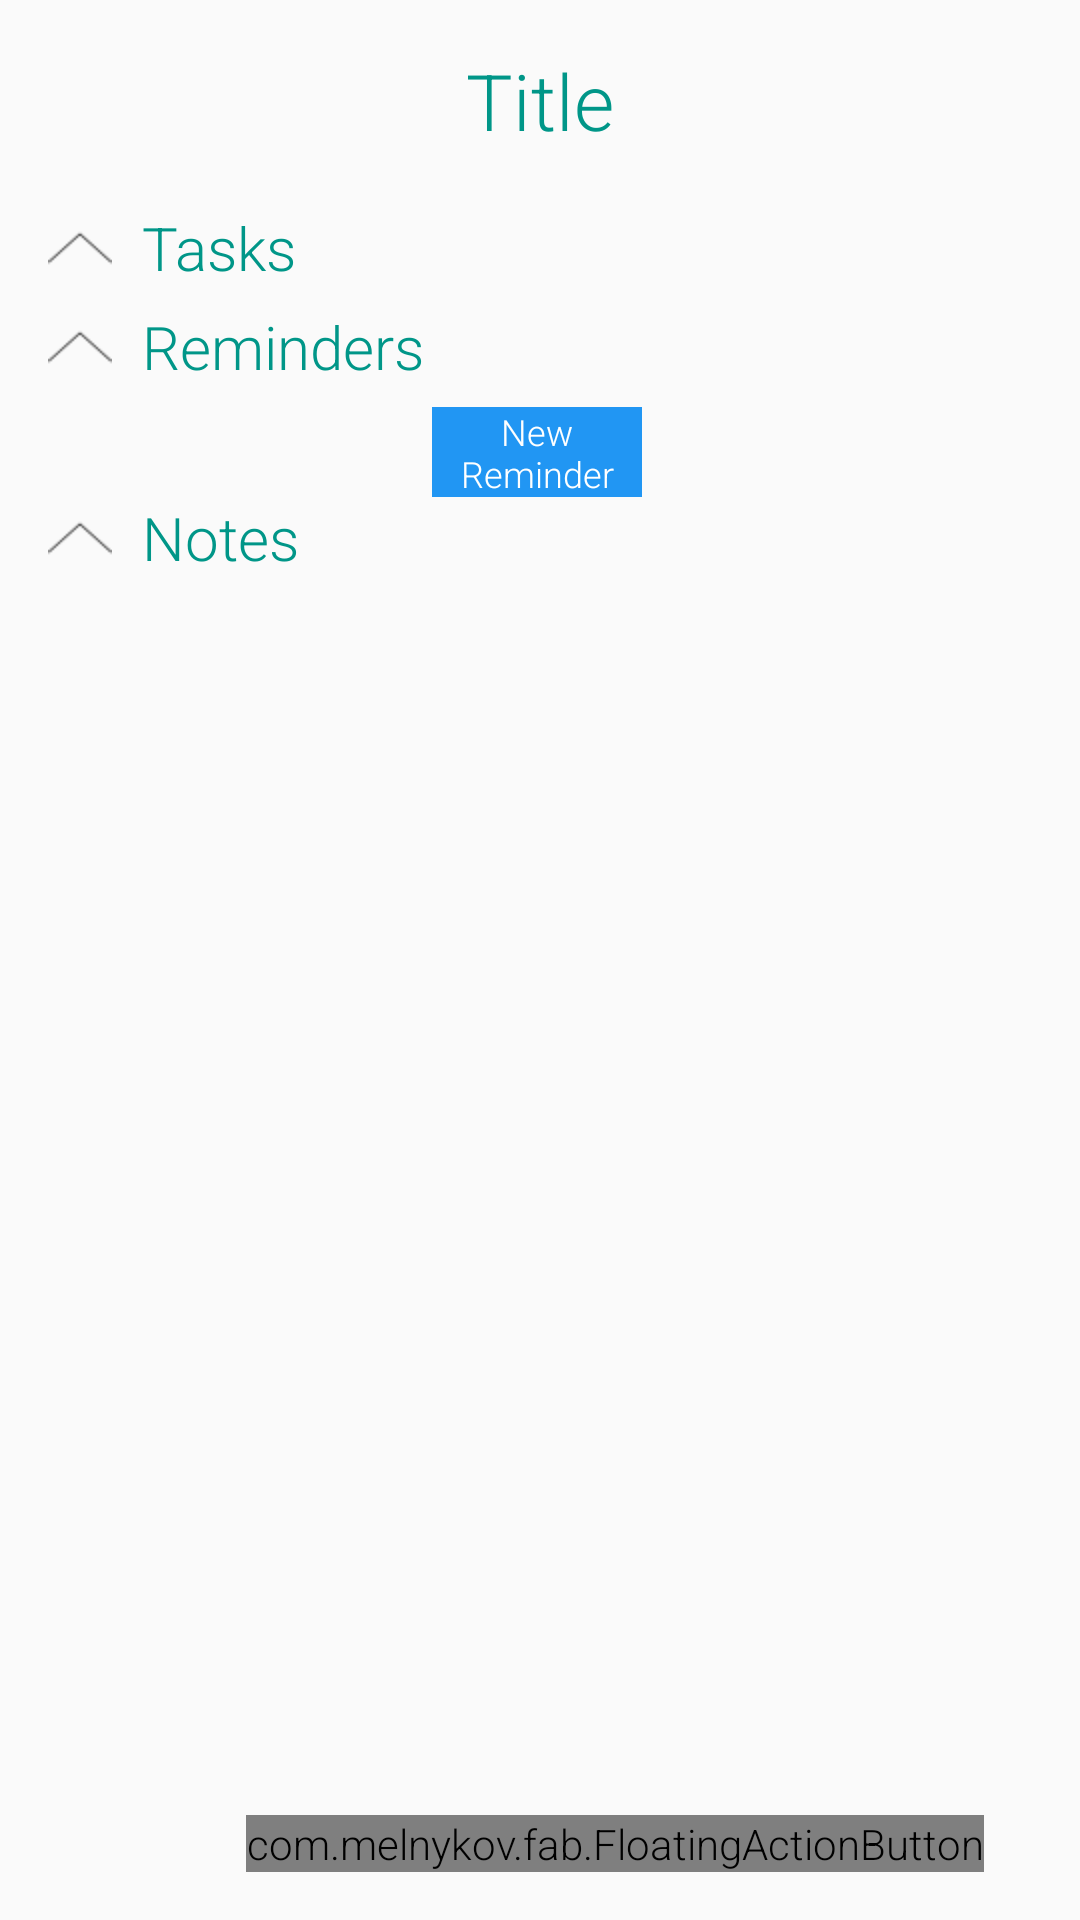

Icon click points for this 1080 x 1920 phone screenshot, format point (x, y):
decollapse: point (80, 248), point (80, 347), point (80, 538)
